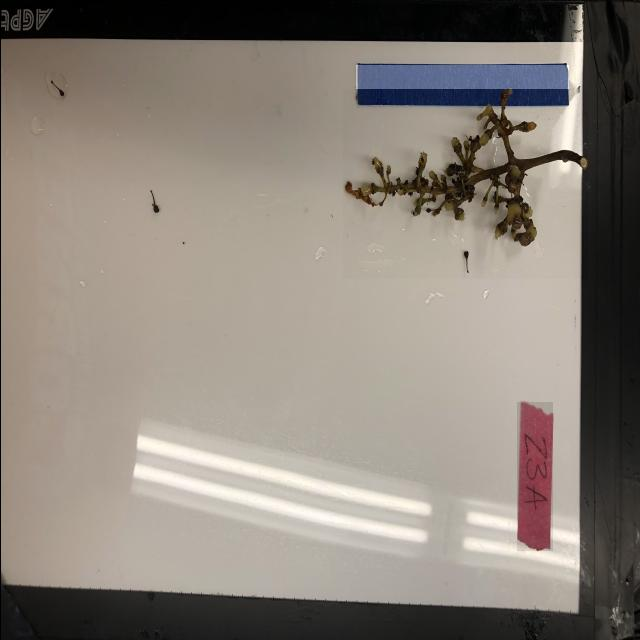index: (516, 402, 552, 551)
measure_label: (355, 65, 568, 105)
rachis_cluster: (342, 89, 587, 279)
